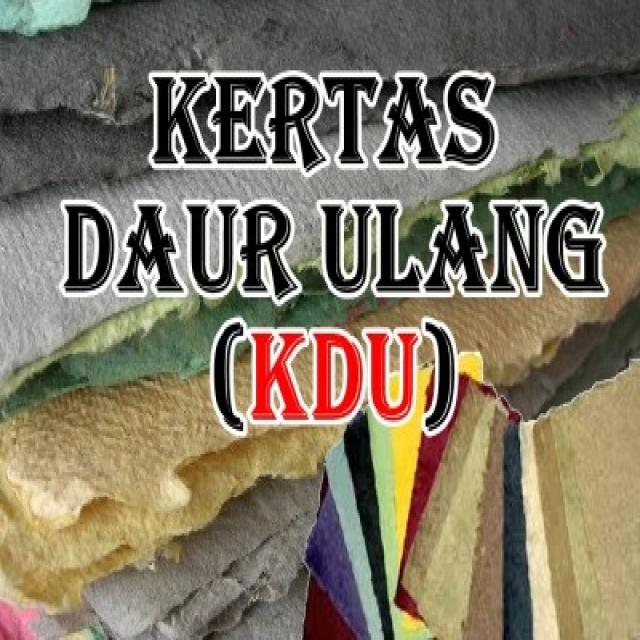Kertas: (314, 336, 530, 640)
